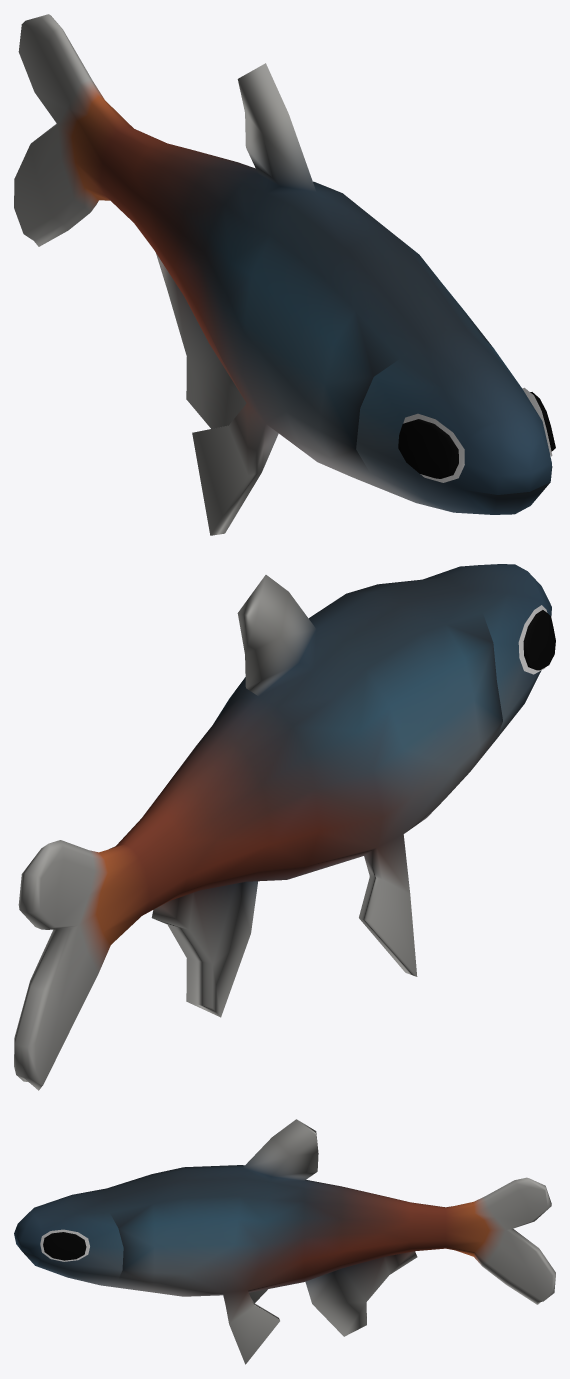
The model's file is underwater-fish-tetra_v1.glb.
The picture shows the model from 3 angles, top to bottom: view 1: azimuth 30°, elevation 25°; view 2: azimuth 150°, elevation 25°; view 3: azimuth 270°, elevation 25°; orthographic projection. The views are drawn at different scales.
Visible parts, largest first — view 1: Tetra_v1; view 2: Tetra_v1; view 3: Tetra_v1.
Part boxes in pixels (x1,y1,x2,y2): Tetra_v1: (14,14,555,535); Tetra_v1: (14,564,555,1090); Tetra_v1: (14,1119,555,1364).
Size of the model in its own units: 0.00936 by 0.0178 by 0.04.
